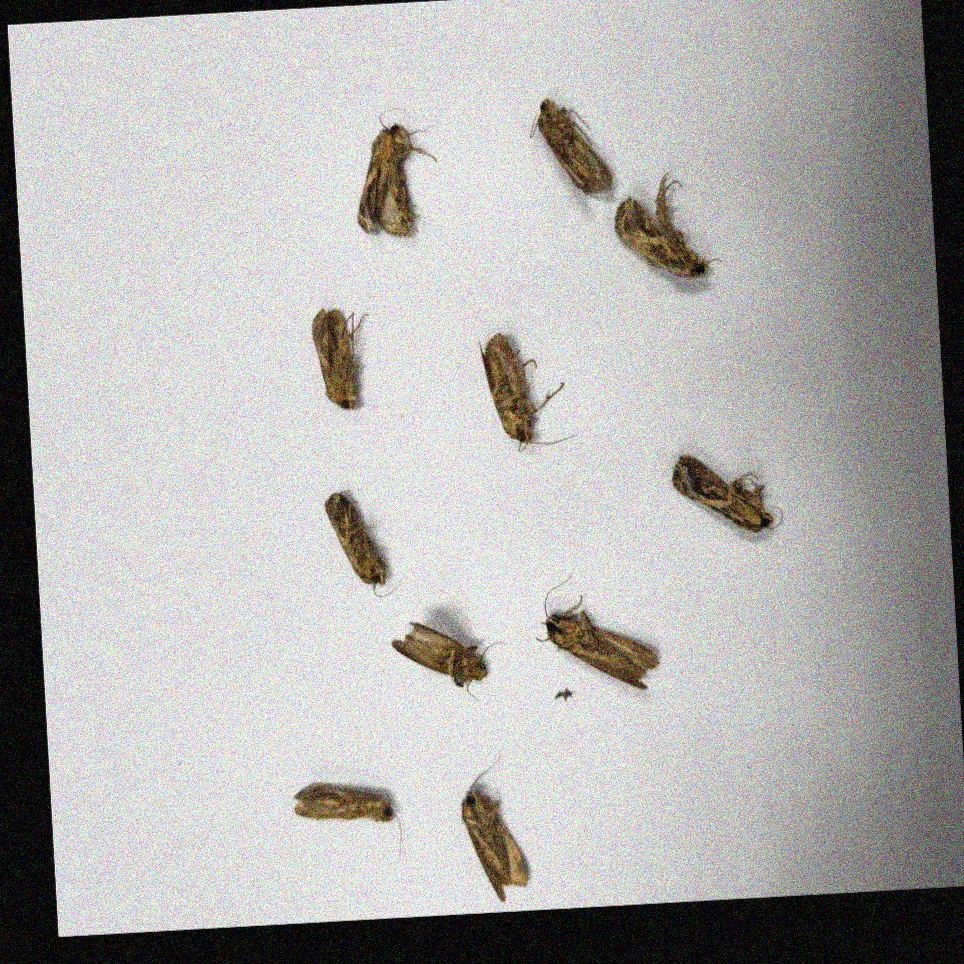Spodoptera litura: (534, 571, 657, 691), (613, 170, 720, 280), (481, 329, 575, 452), (354, 106, 439, 238), (460, 749, 526, 902), (391, 619, 509, 704), (293, 779, 401, 864), (672, 451, 781, 534), (529, 97, 611, 198), (326, 490, 401, 598), (312, 306, 371, 411)
